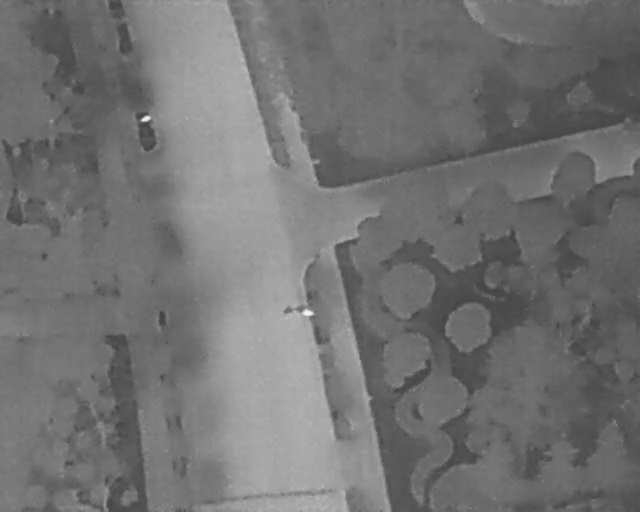Car: (134, 109, 158, 151), (113, 18, 135, 55), (107, 0, 125, 12)
